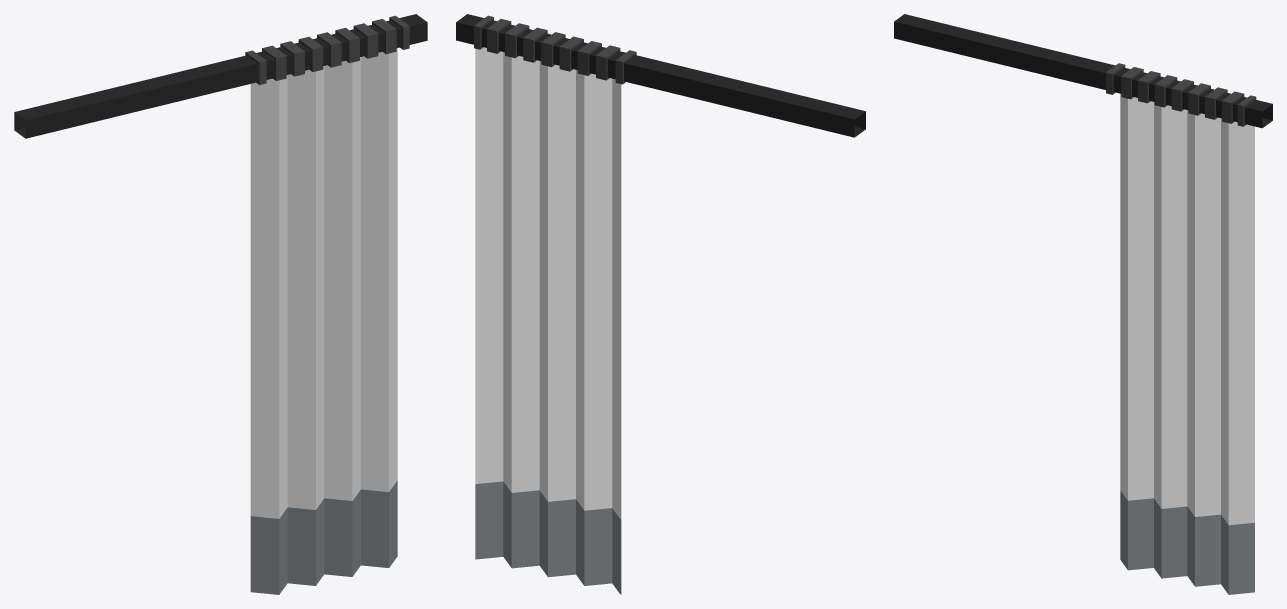
The model's file is Curtain_1B.fbx.
3 views of the same model, side by side, from view 1: azimuth 30°, elevation 25°; view 2: azimuth 150°, elevation 25°; view 3: azimuth 330°, elevation 25° (orthographic). The views are drawn at different scales.
Parts seen in each view (by area): view 1: polySurface1559; view 2: polySurface1559; view 3: polySurface1559.
Part boxes in pixels (x1,y1,x2,y2): polySurface1559: (14, 14, 427, 594); polySurface1559: (456, 14, 865, 594); polySurface1559: (894, 14, 1272, 594).
Bounding box in the file's own units: 2.4 × 3.08 × 0.1452.
1 material, 1 textured.
